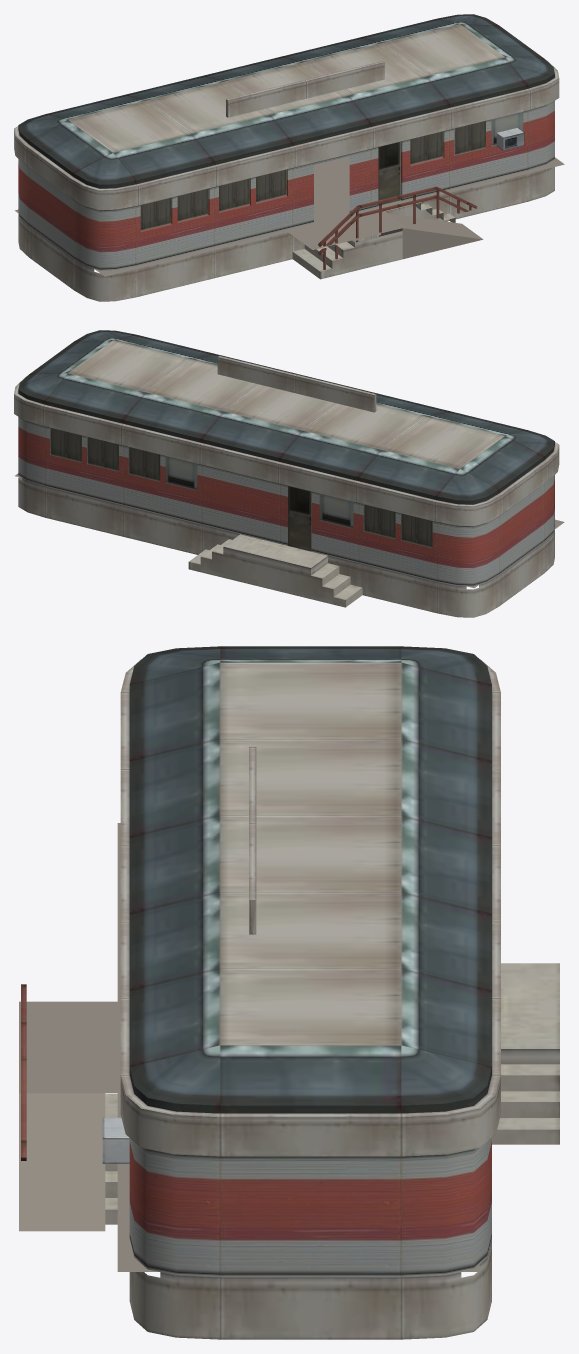
File: rural-diner.walls-v2.lod1.glb
The picture shows the model from 3 angles, top to bottom: view 1: azimuth 30°, elevation 25°; view 2: azimuth 150°, elevation 25°; view 3: azimuth 270°, elevation 25°; orthographic projection. The views are drawn at different scales.
Parts seen in each view (by area): view 1: Rural_Diner_1_Rural_Facade_FLR_2_0, Rural_Diner_1_Rural_Trailer_Stuff_1_0, Walkable floors and stairs; view 2: Rural_Diner_1_Rural_Facade_FLR_2_0, Rural_Diner_1_Rural_Trailer_Stuff_1_0; view 3: Rural_Diner_1_Rural_Facade_FLR_2_0, Rural_Diner_1_Rural_Trailer_Stuff_1_0, Walkable floors and stairs.
Part boxes in pixels (x1,y1,x2,y2): Rural_Diner_1_Rural_Facade_FLR_2_0: [14, 14, 559, 301]; Rural_Diner_1_Rural_Trailer_Stuff_1_0: [18, 101, 554, 270]; Walkable floors and stairs: [14, 156, 564, 276]; Rural_Diner_1_Rural_Facade_FLR_2_0: [14, 330, 559, 617]; Rural_Diner_1_Rural_Trailer_Stuff_1_0: [18, 417, 554, 586]; Rural_Diner_1_Rural_Facade_FLR_2_0: [21, 646, 559, 1339]; Rural_Diner_1_Rural_Trailer_Stuff_1_0: [129, 1138, 491, 1277]; Walkable floors and stairs: [19, 823, 479, 1271].
Size of the model in its own units: 18.3 by 5.31 by 8.96.
3 materials, 2 textured.
